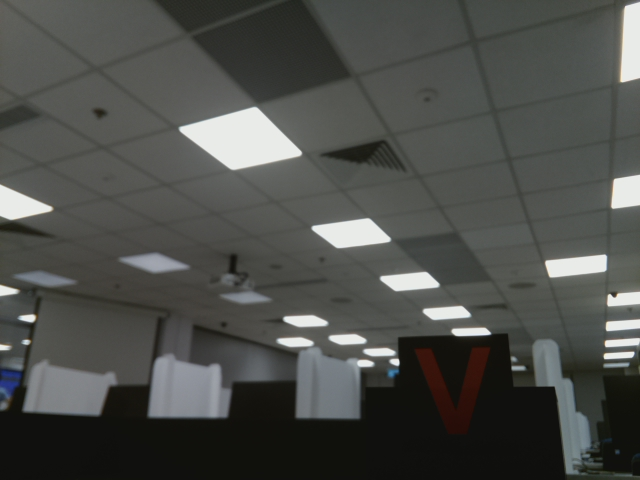v: (405, 347, 499, 437)
